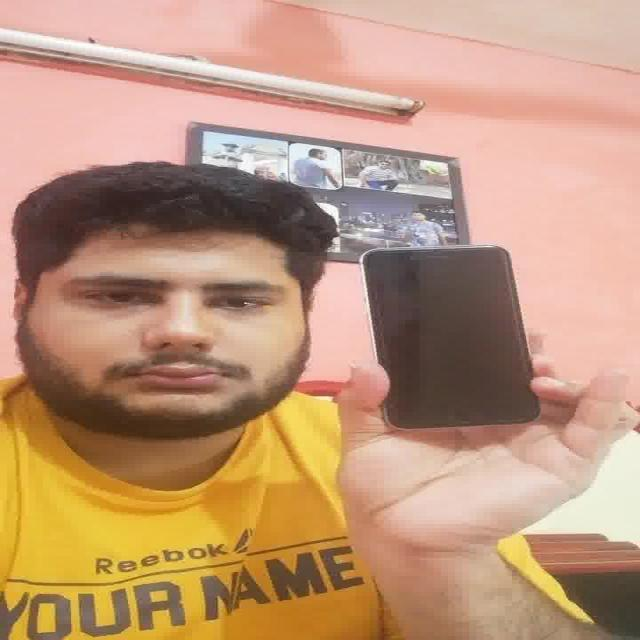Phone: (358, 247, 543, 429)
